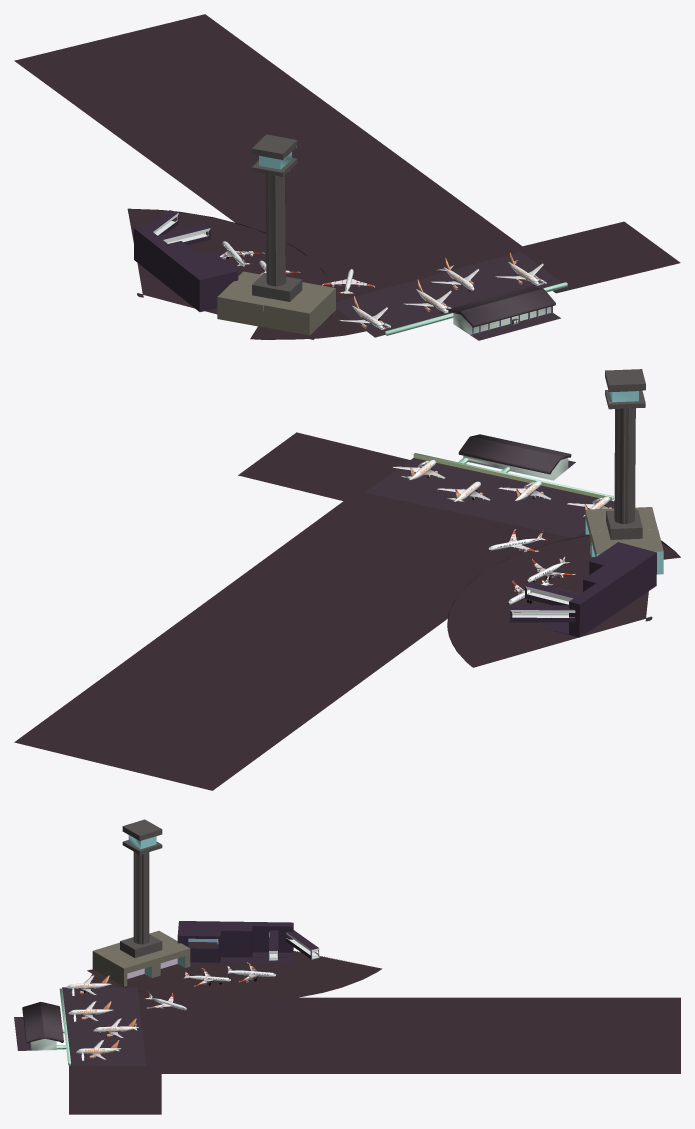
Rendered from airport.glb.
3 views of the same model, one above another, from view 1: azimuth 30°, elevation 25°; view 2: azimuth 150°, elevation 25°; view 3: azimuth 270°, elevation 25° (orthographic). The views are drawn at different scales.
Visible parts, largest first — view 1: airport; view 2: airport; view 3: airport.
Boxes of the visible parts, box(x1,y1,x2,y2) form: airport: box(14, 14, 680, 340); airport: box(14, 369, 680, 790); airport: box(14, 819, 680, 1114).
Bounding box in the file's own units: 1297 × 494 × 2070.
Materials: 2 (2 with a texture image).
